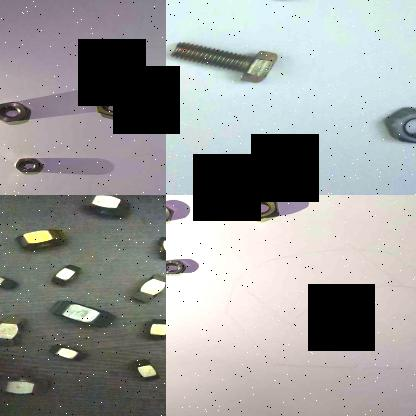Bolts: (166, 31, 285, 89), (221, 0, 309, 7)
NUTS: (11, 224, 82, 262), (50, 296, 120, 330), (375, 103, 416, 147), (200, 156, 254, 184), (0, 370, 58, 395), (83, 195, 139, 219), (236, 195, 282, 220), (125, 274, 166, 302), (93, 92, 135, 118), (42, 262, 88, 284), (47, 340, 93, 362), (0, 316, 32, 347), (126, 358, 166, 382), (0, 99, 32, 123), (12, 154, 46, 174), (143, 312, 166, 340), (151, 231, 166, 271), (0, 268, 21, 291), (166, 259, 189, 277), (166, 201, 174, 225)
